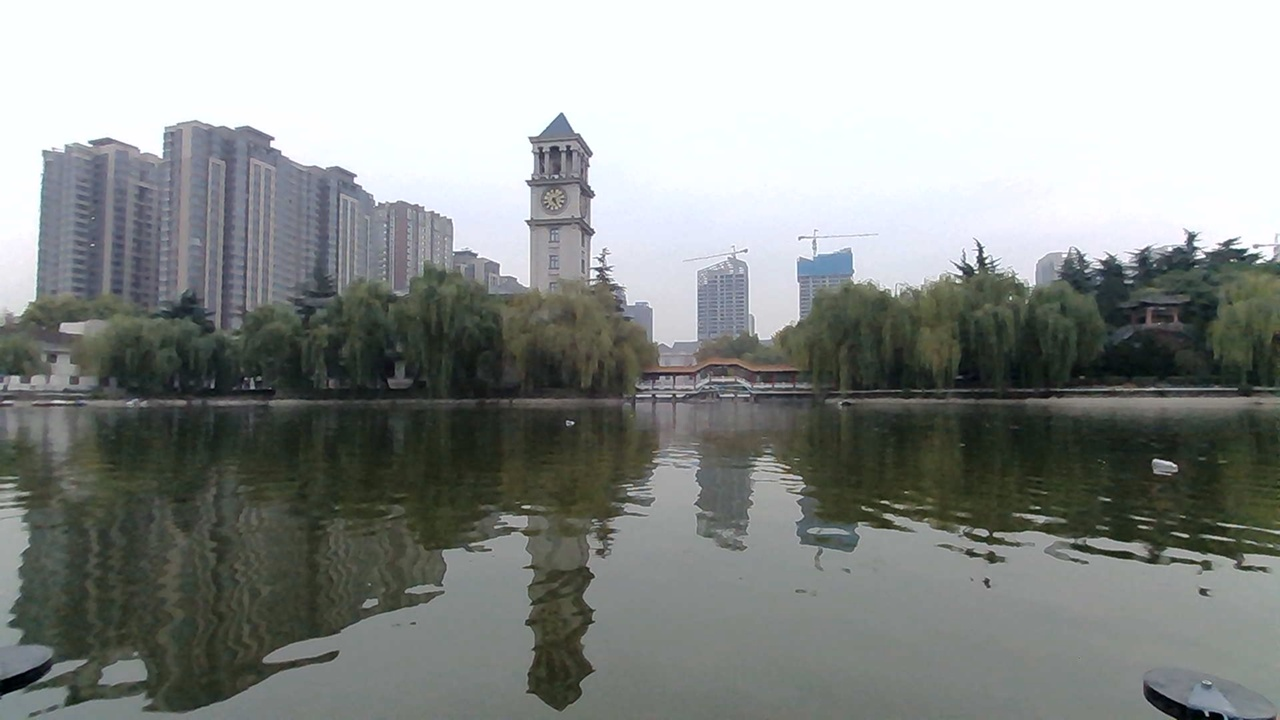bottle: (1146, 454, 1178, 475), (562, 410, 593, 431)
